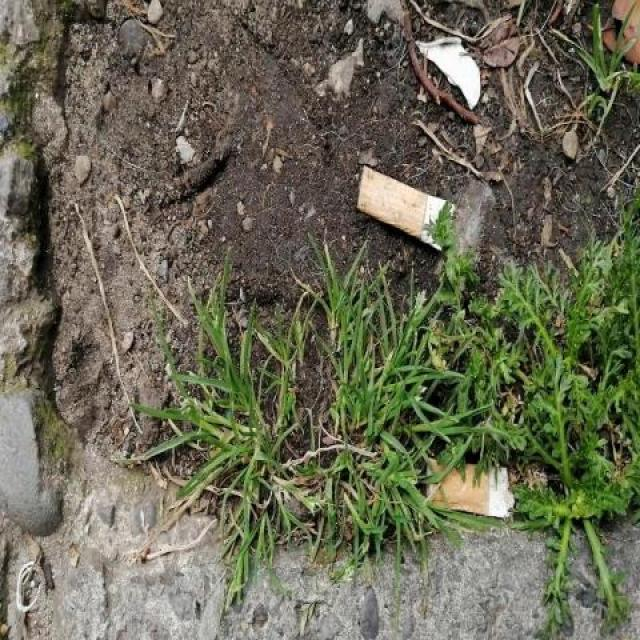non-organic waste: (356, 161, 460, 256), (422, 451, 519, 526)
